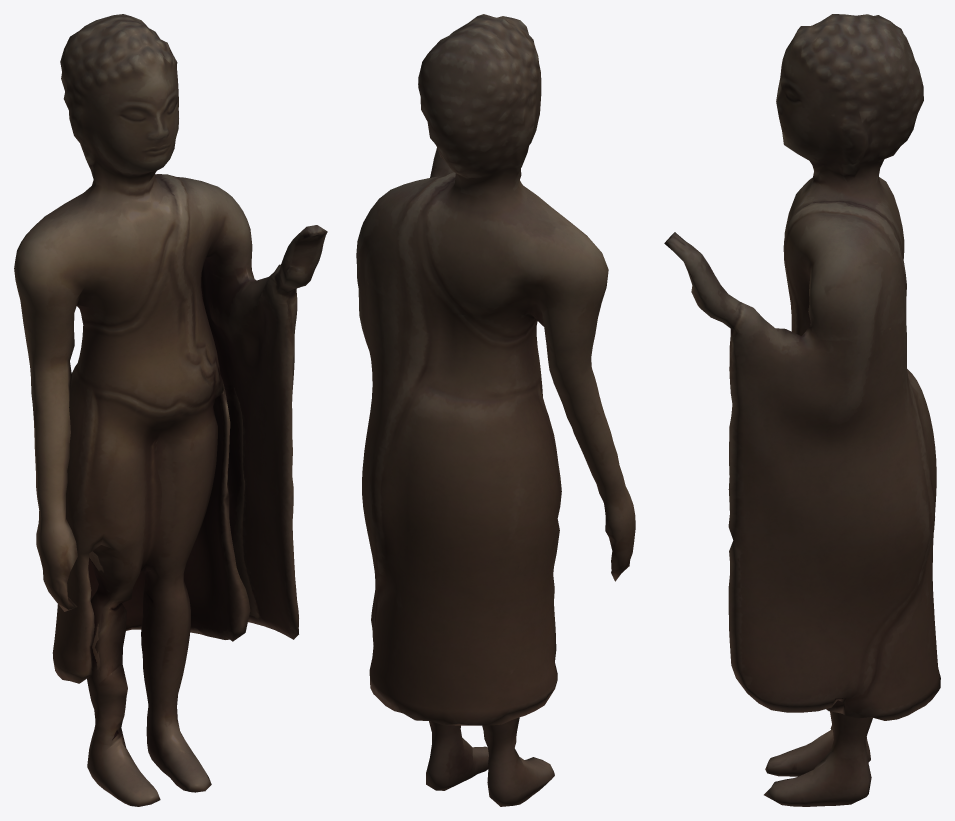
Rendered from BuddhaSculpt.fbx.
The picture shows the model from 3 angles, left to right: view 1: azimuth 30°, elevation 25°; view 2: azimuth 150°, elevation 25°; view 3: azimuth 270°, elevation 25°; orthographic projection. The views are drawn at different scales.
Parts seen in each view (by area): view 1: BuddhaSculpt; view 2: BuddhaSculpt; view 3: BuddhaSculpt.
Part boxes in pixels (box(x1,y1,x2,y2)): BuddhaSculpt: box(14, 14, 327, 806); BuddhaSculpt: box(356, 14, 635, 806); BuddhaSculpt: box(664, 14, 940, 806).
Bounding box in the file's own units: 62.98 × 187 × 61.1.
Materials: 1 (1 with a texture image).
